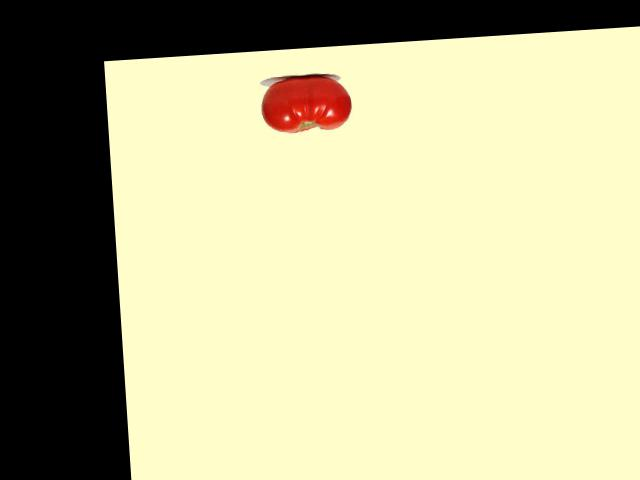tomato: (260, 74, 353, 134)
